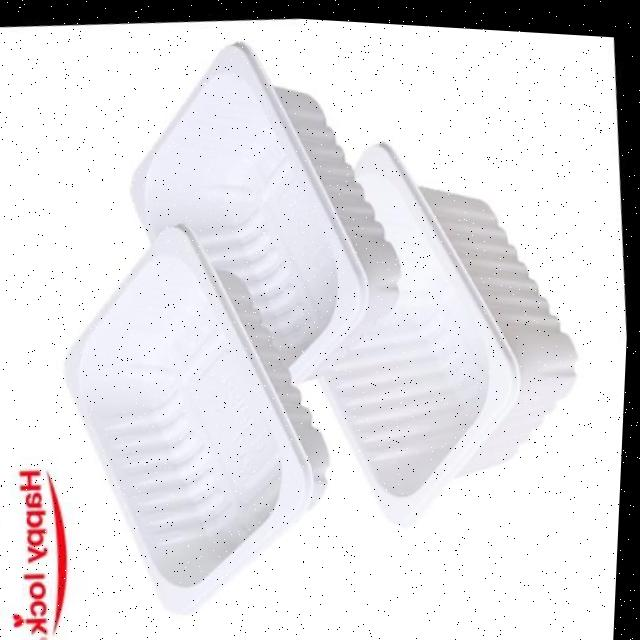disposable: (46, 217, 347, 630), (304, 125, 578, 550), (112, 31, 408, 414)
